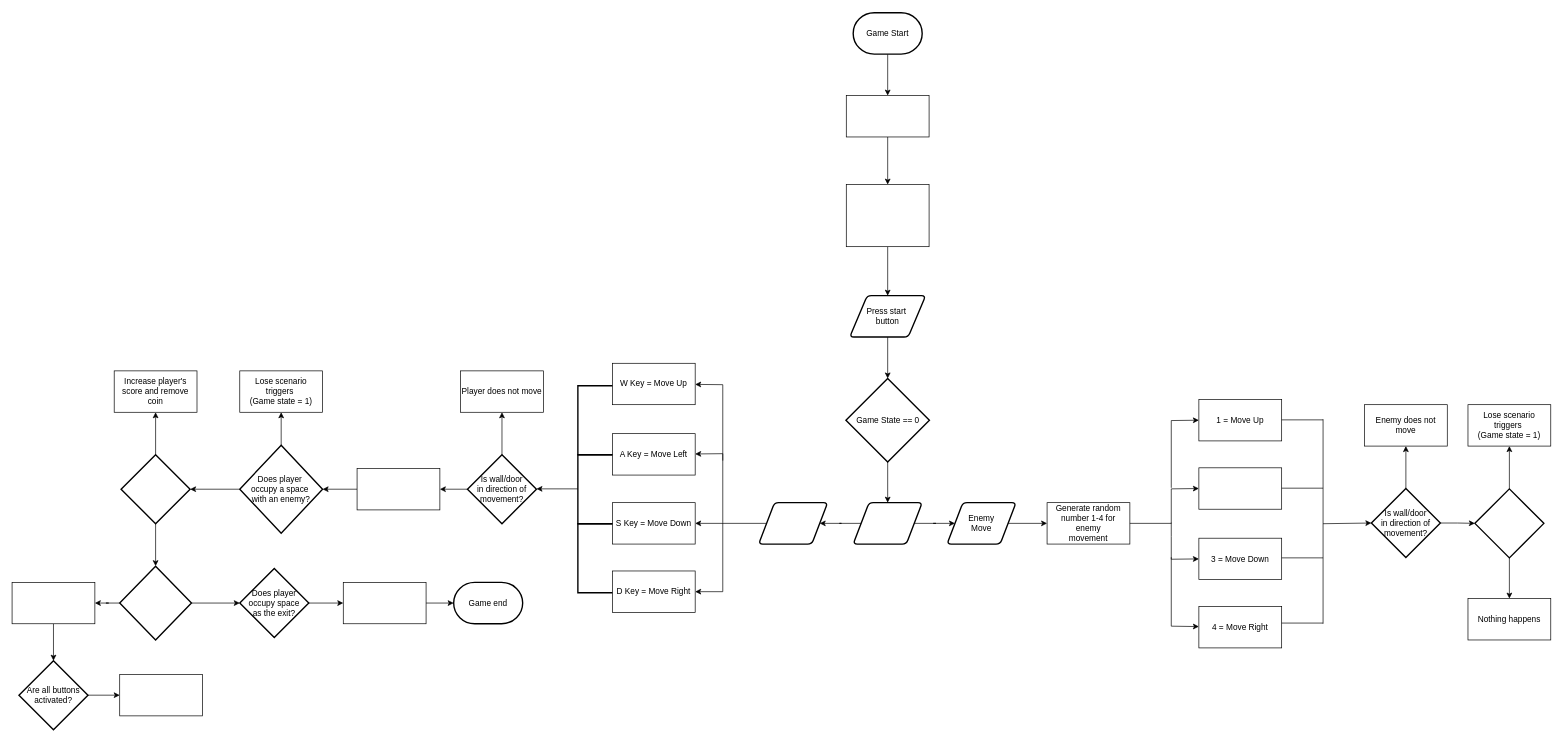
Some shapes in this 1563 by 742 pixel diagram are drawn without their labels. The shapes that lost their labels are listed below. From the top down, each one's box as (x1, y1, x2, y2) in pixels, then its label:
(846, 95, 929, 137): Initialize World
(846, 184, 929, 247): Initialize the actors: Walls Door Buttons Player Enemies
(120, 454, 190, 524): Does player occupy a space with a coin?
(356, 468, 440, 510): Move player in inputted direction
(1198, 467, 1282, 509): 2 = Move Left
(758, 502, 828, 544): Player Move
(852, 502, 923, 544): Turn n
(1474, 488, 1544, 558): Does enemy a space with player?
(11, 582, 95, 624): Decrease number of buttons to open door & remove button
(119, 565, 192, 640): Does player occupy space with a button?
(343, 582, 426, 624): Win scenario triggers (Game state = 2)
(119, 674, 203, 716): Remove door
